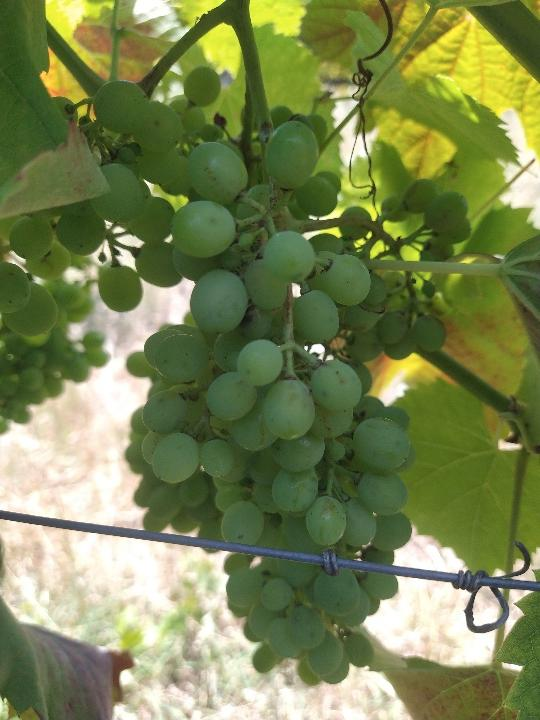grape: (7, 60, 478, 693)
